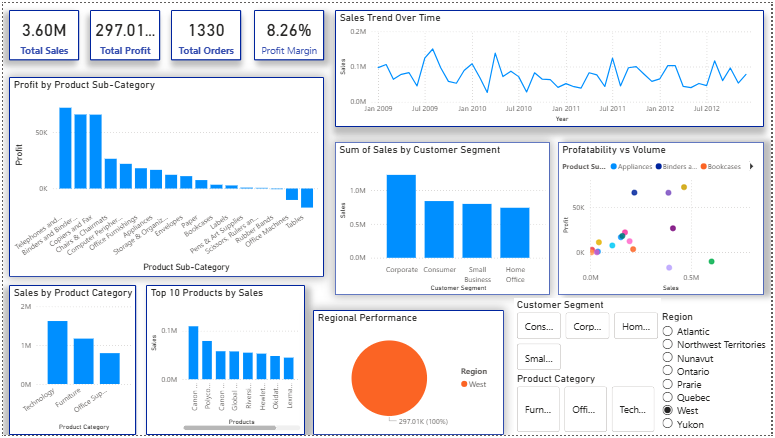

This screenshot's page, from the dashboard's own definition file:
{"tool":"powerbi","page":{"name":"Page 1","canvas":[1280,720],"ordinal":0},"visuals":[{"type":"card","title":"Total Sales","fields":{"Values":["Sum(Orders.Sales)"]},"box":[10,11.4,117.1,84.3],"z":0},{"type":"card","title":"Total Profit","fields":{"Values":["Sum(Orders.Profit)"]},"box":[144.3,11.4,117.1,84.3],"z":1000},{"type":"card","fields":{"Values":["Orders.Total Orders"]},"box":[280,11.4,117.1,84.3],"z":2000},{"type":"card","fields":{"Values":["Orders.Profit Margin"]},"box":[418.6,11.4,117.1,84.3],"z":3000},{"type":"lineChart","title":"Sales Trend Over Time","fields":{"Y":["Sum(Orders.Sales)"],"Category":["Orders.MonthStart.Variation.Date Hierarchy.Year","Orders.MonthStart.Variation.Date Hierarchy.Quarter","Orders.MonthStart.Variation.Date Hierarchy.Month","Orders.MonthStart.Variation.Date Hierarchy.Day"]},"box":[553.3,11.7,715,195],"z":4000},{"type":"columnChart","title":"Sales by Product Category","fields":{"Y":["Sum(Orders.Sales)"],"Category":["Orders.Product Category"]},"box":[10,470,211.7,250],"z":5000},{"type":"columnChart","title":"Profit by Product Sub-Category","fields":{"Y":["Sum(Orders.Profit)"],"Category":["Orders.Product Sub-Category"]},"box":[10,123.3,525,333.3],"z":6000},{"type":"columnChart","title":"Top 10 Products by Sales","fields":{"Y":["Sum(Orders.Sales)"],"Category":["Orders.Product Name"]},"box":[238.3,470,265,250],"z":7000},{"type":"pieChart","title":"Regional Performance","fields":{"Category":["Orders.Region"],"Y":["Sum(Orders.Profit)"]},"box":[516.7,511.7,318.3,208.3],"z":8000},{"type":"clusteredColumnChart","fields":{"Y":["Sum(Orders.Sales)"],"Category":["Orders.Customer Segment"]},"box":[553.3,231.7,358.3,255],"z":9000},{"type":"scatterChart","title":"Profatability vs Volume","fields":{"X":["Sum(Orders.Sales)"],"Y":["Sum(Orders.Profit)"],"Series":["Orders.Product Sub-Category"]},"box":[925,231.7,343.3,255],"z":10000},{"type":"listSlicer","fields":{"Values":["Orders.Region"]},"box":[1093.3,511.7,186.7,208.3],"z":11000},{"type":"advancedSlicerVisual","fields":{"Values":["Orders.Product Category"]},"box":[851.7,615,241.7,105],"z":12000},{"type":"advancedSlicerVisual","fields":{"Values":["Orders.Customer Segment"]},"box":[851.7,491.7,245,125],"z":13000}]}

Visuals, with their boxes in screenshot pixels (x1, y1, x2, y2), scaled from the page's 1280x720 canvas onto the 775x438 screenshot:
"Total Sales" card: <bbox>6, 7, 77, 58</bbox>
"Total Profit" card: <bbox>87, 7, 158, 58</bbox>
card - Orders.Total Orders: <bbox>170, 7, 240, 58</bbox>
card - Orders.Profit Margin: <bbox>253, 7, 324, 58</bbox>
"Sales Trend Over Time" lineChart: <bbox>335, 7, 768, 126</bbox>
"Sales by Product Category" columnChart: <bbox>6, 286, 134, 437</bbox>
"Profit by Product Sub-Category" columnChart: <bbox>6, 75, 324, 278</bbox>
"Top 10 Products by Sales" columnChart: <bbox>144, 286, 305, 437</bbox>
"Regional Performance" pieChart: <bbox>313, 311, 506, 437</bbox>
clusteredColumnChart - Sum(Orders.Sales) x Orders.Customer Segment: <bbox>335, 141, 552, 296</bbox>
"Profatability vs Volume" scatterChart: <bbox>560, 141, 768, 296</bbox>
listSlicer - Orders.Region: <bbox>662, 311, 774, 437</bbox>
advancedSlicerVisual - Orders.Product Category: <bbox>516, 374, 662, 437</bbox>
advancedSlicerVisual - Orders.Customer Segment: <bbox>516, 299, 664, 375</bbox>
